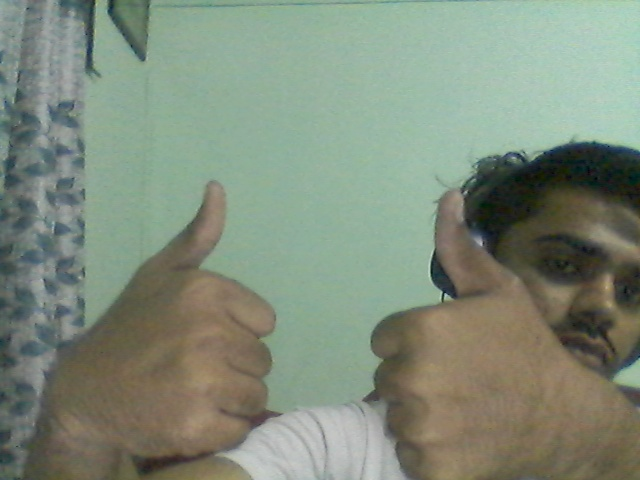Thank You: (50, 145, 607, 480)
